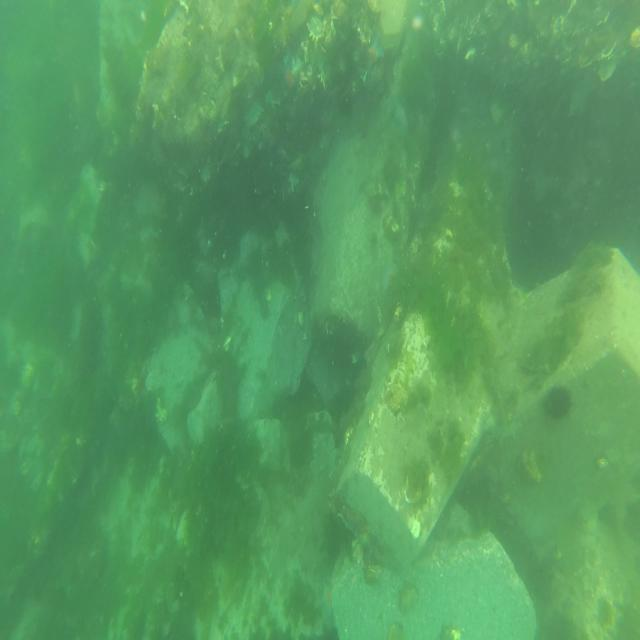echinus: (539, 382, 576, 424)
starfish: (362, 33, 386, 81), (277, 56, 300, 98), (392, 97, 410, 134), (380, 260, 399, 295)
